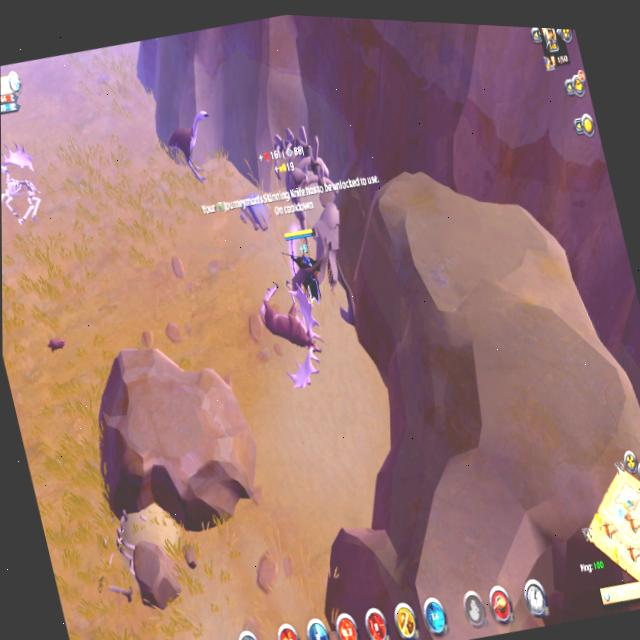mob: (249, 264, 335, 390)
ore: (156, 98, 229, 194)
red: (281, 223, 331, 312)
